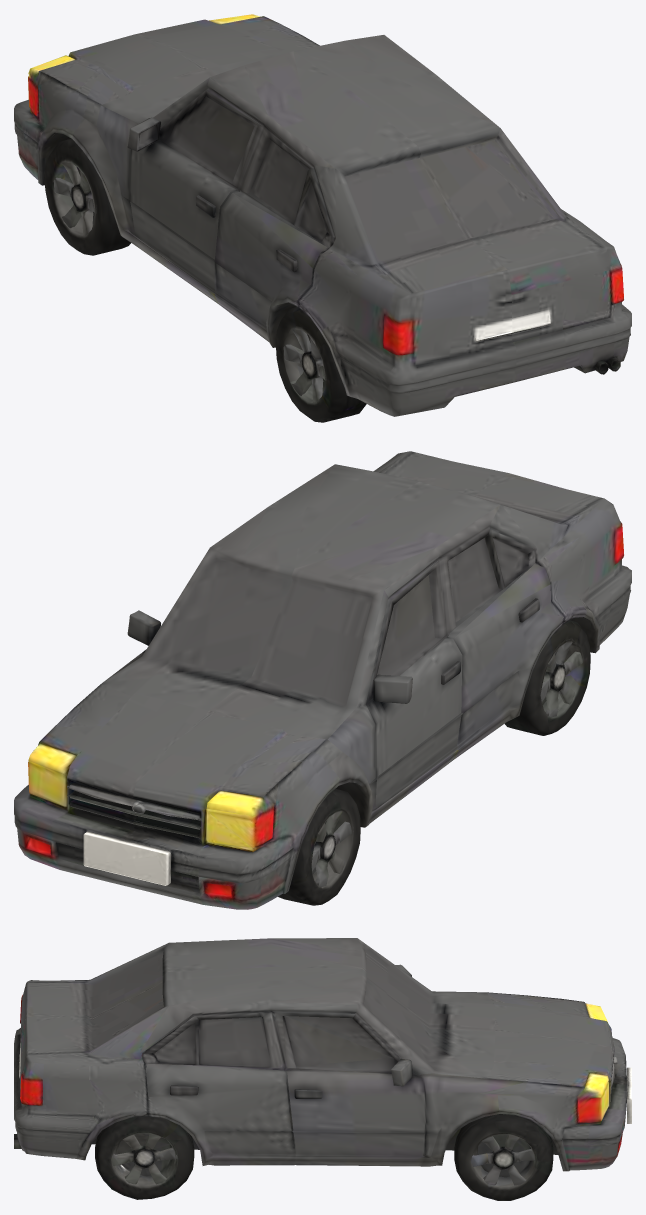
File: street-car.glb
3 renders of one model, top to bottom at view 1: azimuth 30°, elevation 25°; view 2: azimuth 150°, elevation 25°; view 3: azimuth 270°, elevation 25°, orthographic. The views are drawn at different scales.
Parts seen in each view (by area): view 1: tripo_node_c319ab87-4274-4424-9ab0-65f74e47c4f9; view 2: tripo_node_c319ab87-4274-4424-9ab0-65f74e47c4f9; view 3: tripo_node_c319ab87-4274-4424-9ab0-65f74e47c4f9.
Boxes of the visible parts, <box> form: tripo_node_c319ab87-4274-4424-9ab0-65f74e47c4f9: <box>14,14,631,422</box>; tripo_node_c319ab87-4274-4424-9ab0-65f74e47c4f9: <box>14,451,631,909</box>; tripo_node_c319ab87-4274-4424-9ab0-65f74e47c4f9: <box>14,938,631,1200</box>.
Bounding box in the file's own units: 1.85 × 1.5 × 4.5.
Materials: 1 (1 with a texture image).
